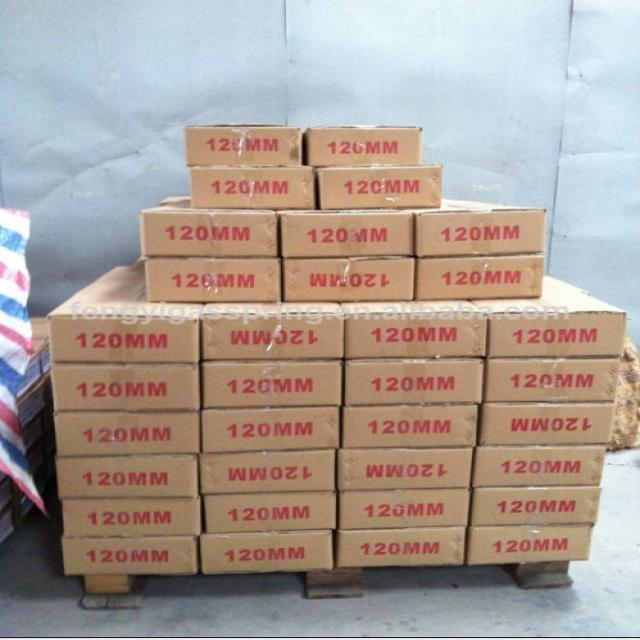Carton: (49, 366, 332, 533), (140, 209, 545, 296), (182, 124, 441, 207), (335, 407, 480, 491), (468, 451, 605, 526), (339, 528, 587, 566), (45, 307, 196, 359), (204, 307, 341, 360), (344, 310, 485, 359), (485, 358, 621, 404), (341, 363, 482, 405), (205, 408, 336, 453), (489, 313, 627, 354), (60, 539, 196, 579), (62, 501, 198, 540), (203, 365, 332, 406), (204, 450, 331, 491), (337, 492, 467, 530), (480, 407, 612, 443), (200, 532, 332, 567)
